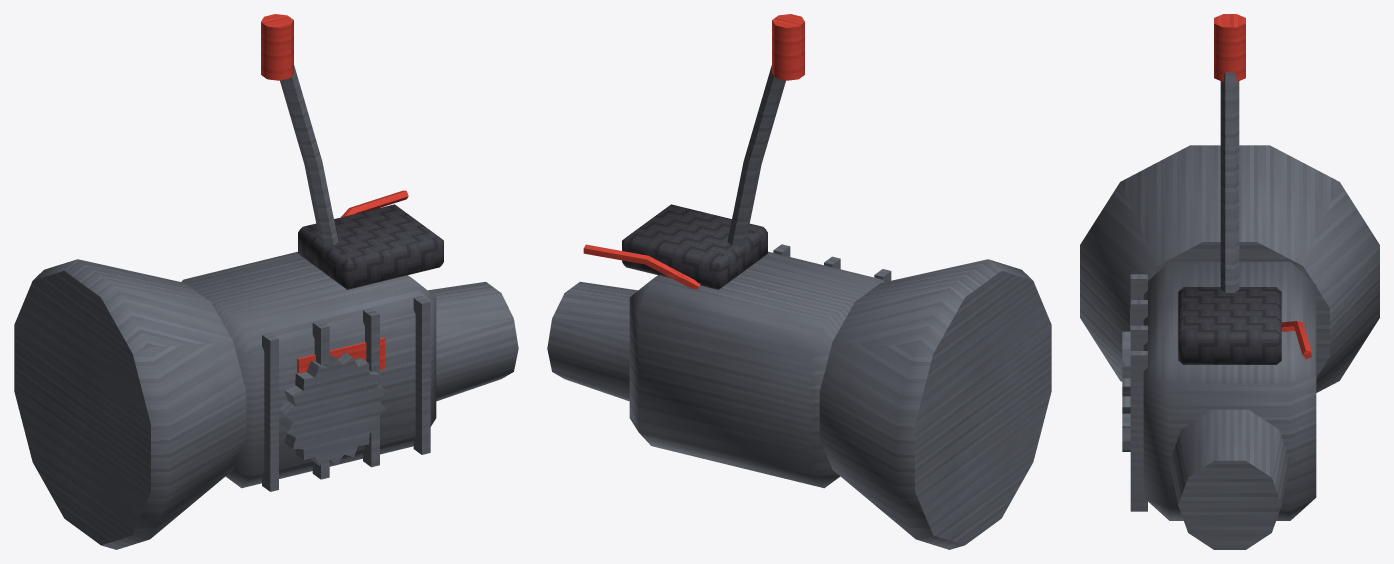
The model's file is cambio_n4.glb.
3 renders of one model, left to right at view 1: azimuth 30°, elevation 25°; view 2: azimuth 150°, elevation 25°; view 3: azimuth 270°, elevation 25°, orthographic. The views are drawn at different scales.
Visible parts, largest first — view 1: cambio_n4; view 2: cambio_n4; view 3: cambio_n4.
Part boxes in pixels (x1,y1,x2,y2): cambio_n4: [14, 14, 518, 549]; cambio_n4: [547, 14, 1051, 549]; cambio_n4: [1080, 14, 1379, 549].
Size of the model in its own units: 0.57 by 0.6239 by 0.3477.
Materials: 3 (3 with a texture image).
